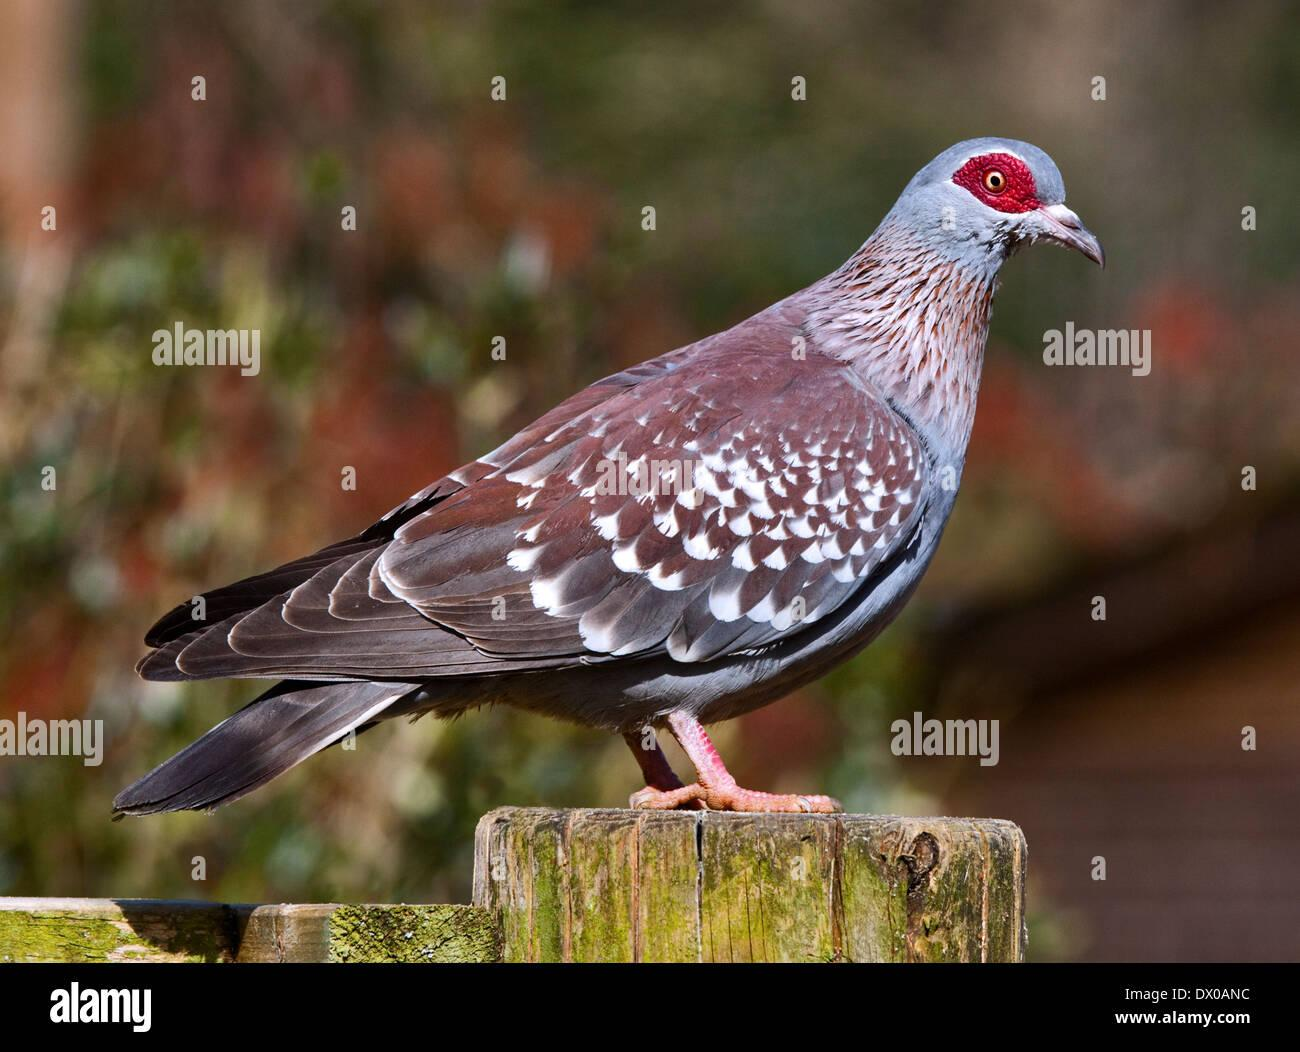Flying Rat: (134, 132, 1101, 821)
